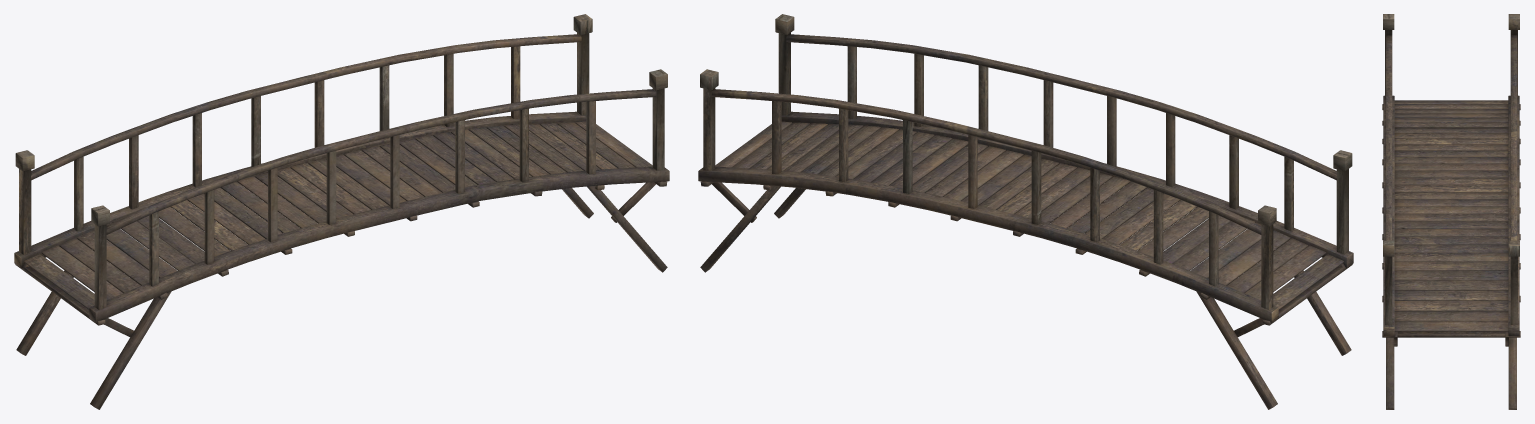
Rendered from bridge.gltf.
3 views of the same model, side by side, from view 1: azimuth 30°, elevation 25°; view 2: azimuth 150°, elevation 25°; view 3: azimuth 270°, elevation 25° (orthographic). The views are drawn at different scales.
Visible parts, largest first — view 1: bridge; view 2: bridge; view 3: bridge.
Boxes of the visible parts, <box> form: bridge: <box>14,14,669,409</box>; bridge: <box>698,14,1353,409</box>; bridge: <box>1382,14,1520,409</box>.
Size of the model in its own units: 8.2 by 2.83 by 2.06.
1 material, 1 textured.
